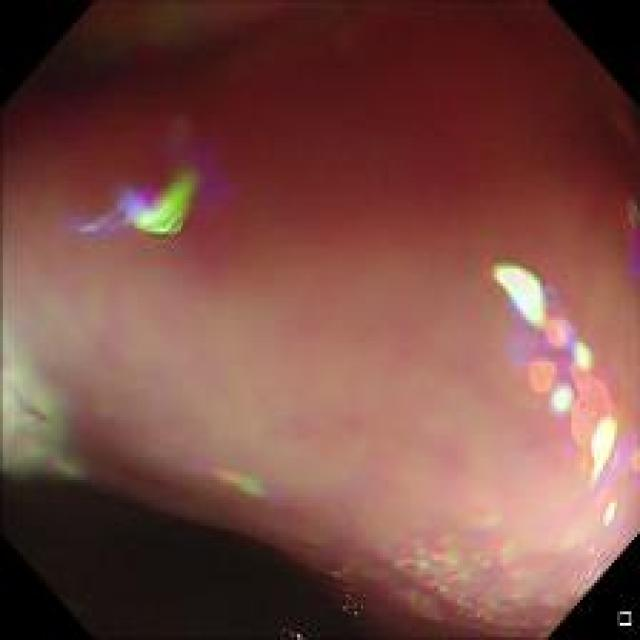bubbles: (384, 525, 600, 630)
color misalignment: (9, 6, 631, 620), (499, 264, 624, 492), (380, 519, 604, 632), (80, 161, 204, 241), (214, 464, 280, 504)
contrast: (10, 468, 434, 635)
